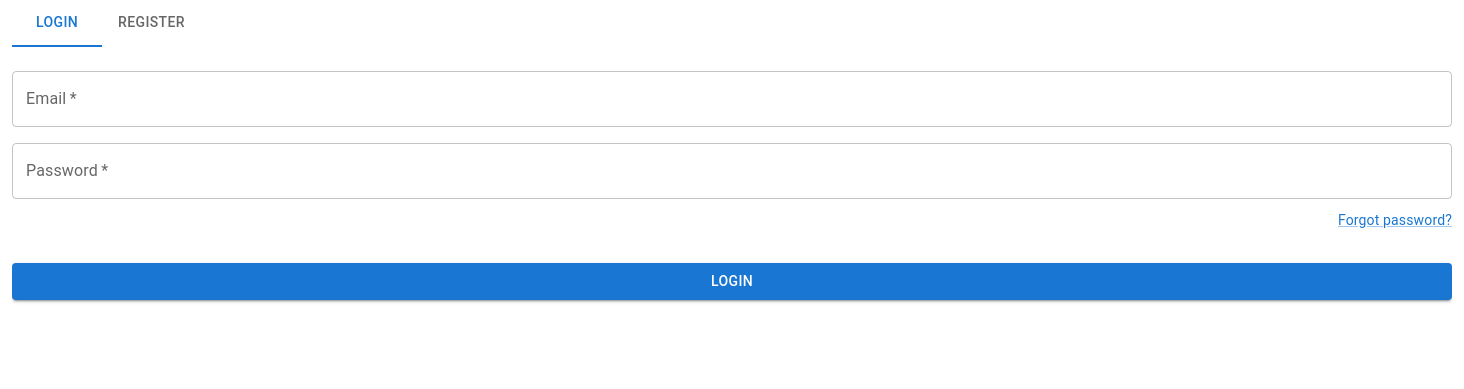
Test case: LoginForm › should clear error when user starts typing in email field
The width and height of the screenshot is (1464, 389).
In the field labelled "Email *": (732, 99) [12,71,1452,127], type "test@example.com"
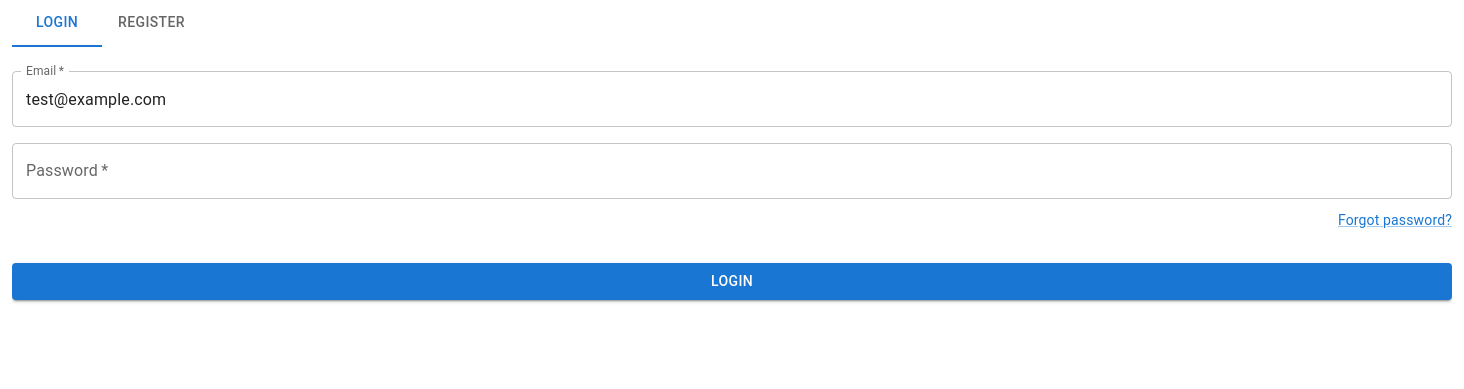
In the password field labelled "Password *": (732, 171) [12,143,1452,199], type "wrongpassword"
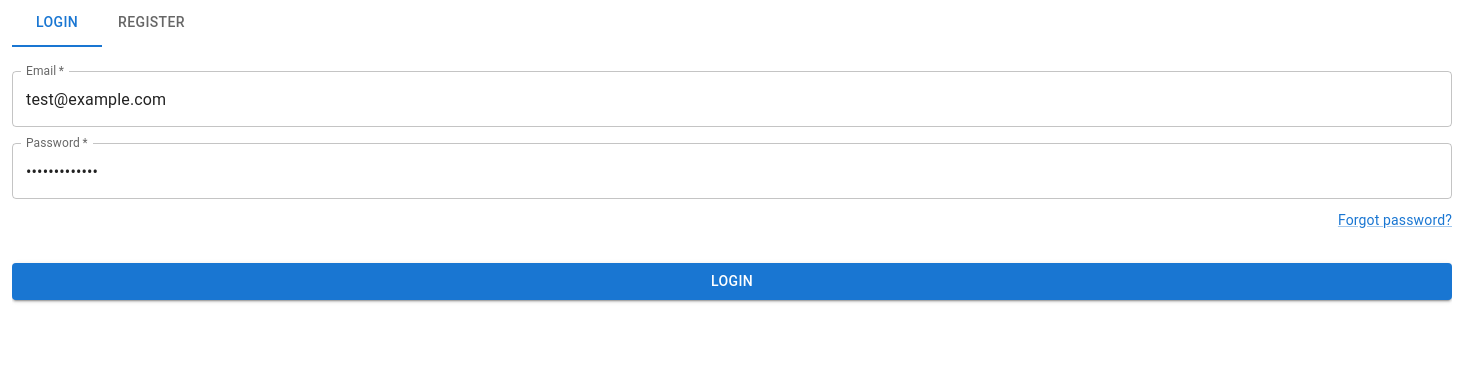
Click the button "Login": click(732, 281) [12,263,1452,300]
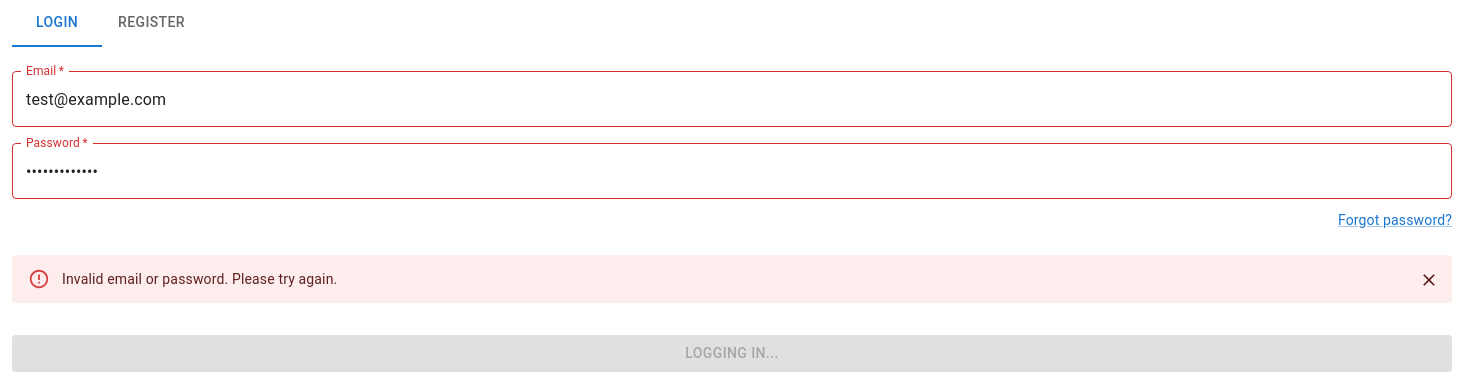
Result: the message "Invalid email or password. Please try again." is shown at [12,255,1452,303]
Start typing in email field - should clear error (lines 218-219)
Replace the text in the field labelled "Email *" with "new@example.com": (732, 99) [12,71,1452,127]
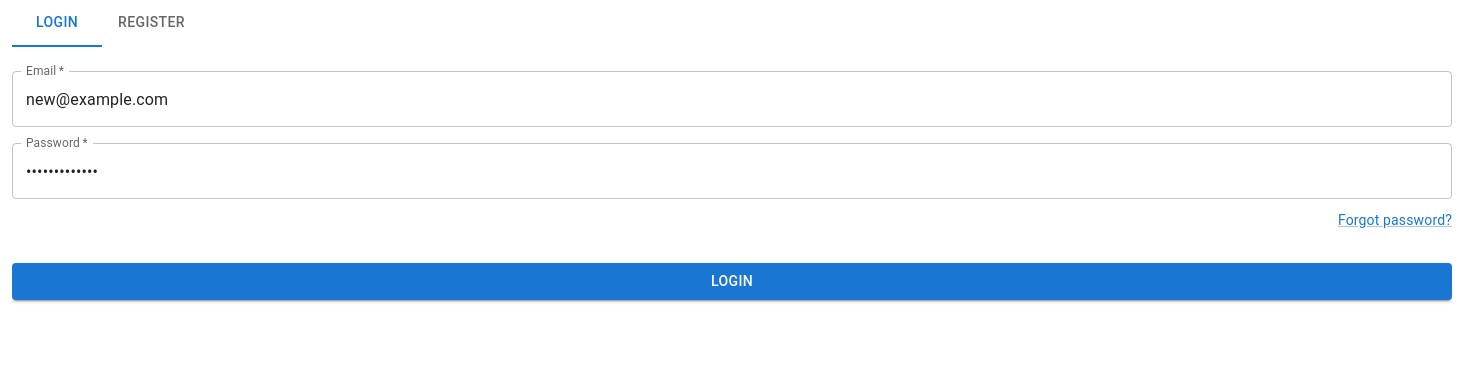
Result: the message "Invalid email or password. Please try again." is gone
